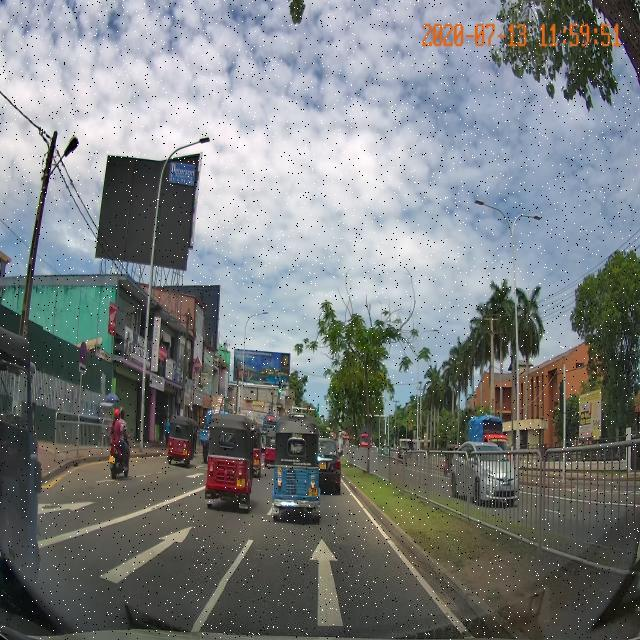forward: (194, 528, 470, 634)
